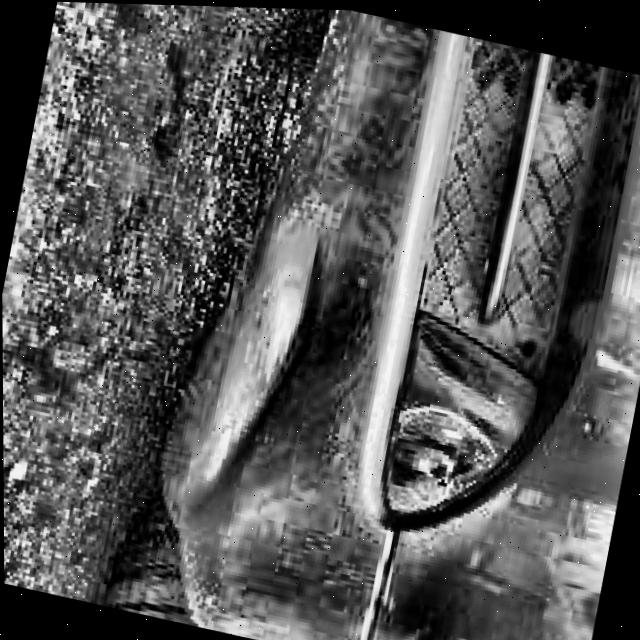bumper_dent: (194, 228, 330, 541)
